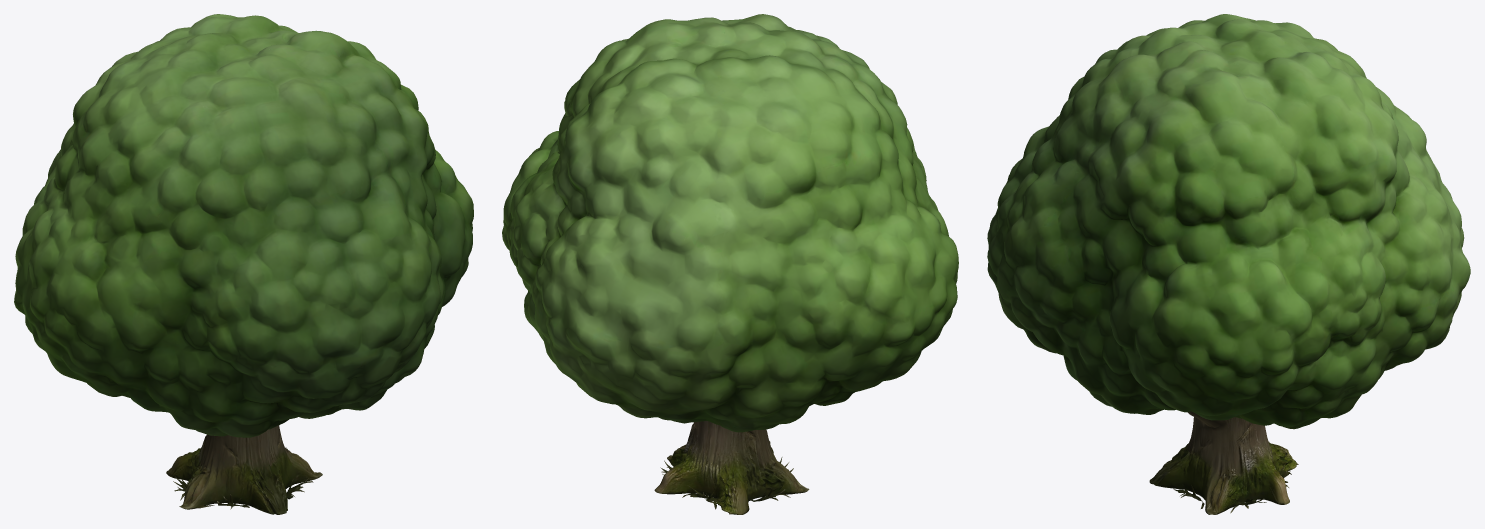
File: arvore.glb
3 views of the same model, side by side, from view 1: azimuth 30°, elevation 25°; view 2: azimuth 150°, elevation 25°; view 3: azimuth 270°, elevation 25° (orthographic).
Visible parts, largest first — view 1: arvore; view 2: arvore; view 3: arvore.
Boxes of the visible parts, x1,y1,x2,y2 form: arvore: [14, 14, 473, 514]; arvore: [502, 14, 958, 514]; arvore: [987, 14, 1470, 514].
Bounding box in the file's own units: 5.51 × 5.5 × 5.45.
1 material, 1 textured.
